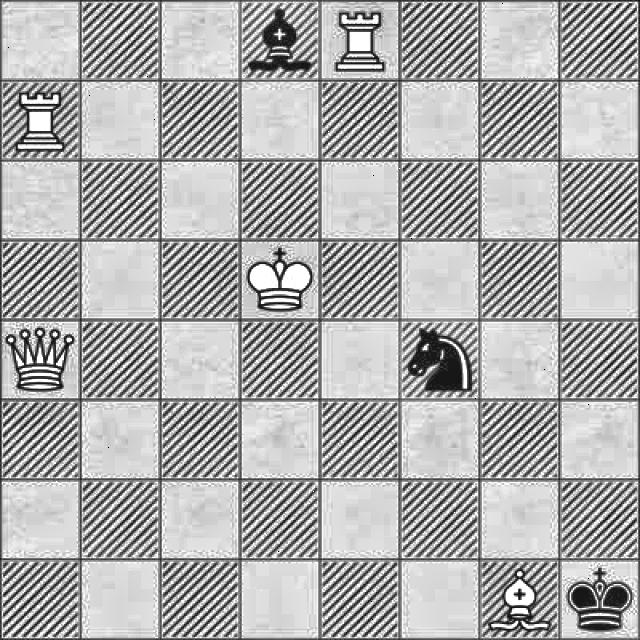Black Knight: (404, 322, 474, 398)
black bishop: (244, 3, 316, 80)
black king: (559, 563, 638, 640)
white bishop: (479, 558, 556, 640)
white king: (243, 243, 316, 319)
white queen: (4, 324, 76, 394)
white rook: (8, 83, 72, 157), (330, 5, 386, 78)
